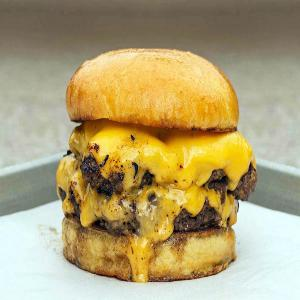cheeseburger: (57, 38, 257, 295)
